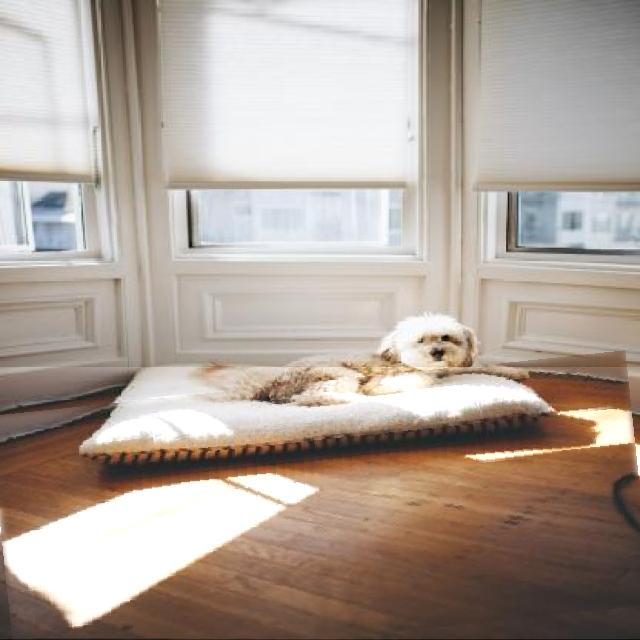floor: (0, 368, 640, 639)
